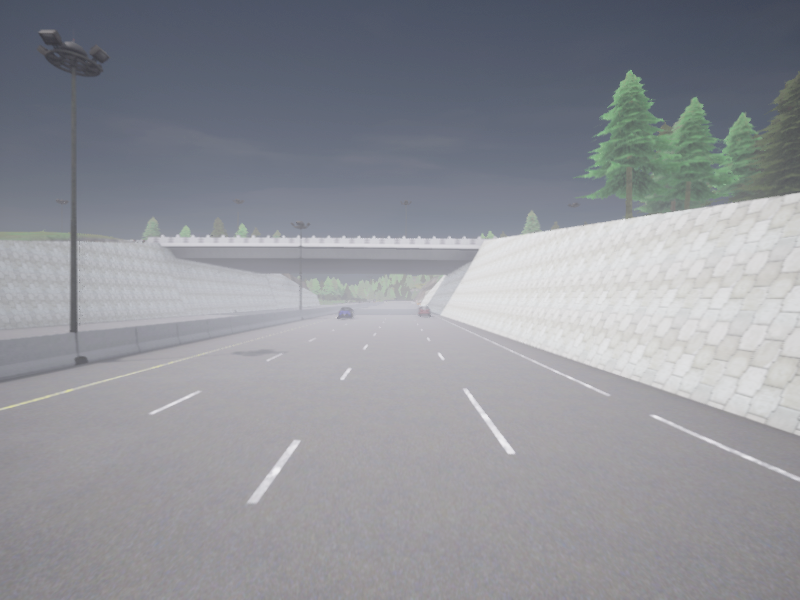vehicle: (338, 307, 354, 318), (418, 306, 429, 316)
